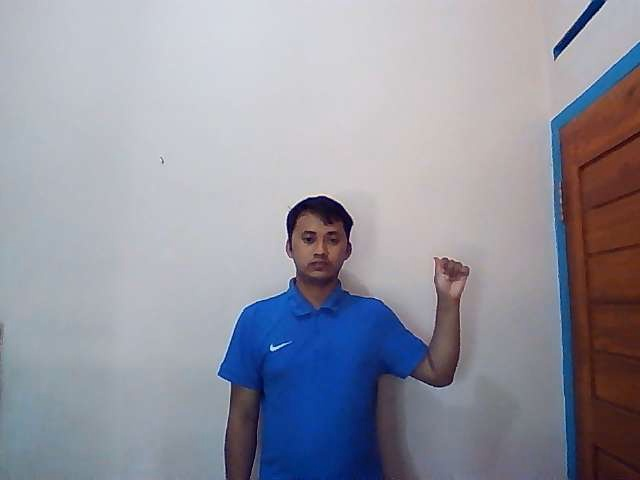A: (433, 256, 470, 299)
